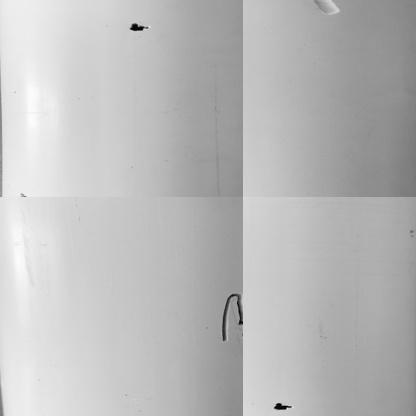fengxi: (218, 285, 243, 345)
kongdong: (265, 394, 294, 413), (128, 19, 146, 35)
sunshang: (310, 4, 341, 14)
